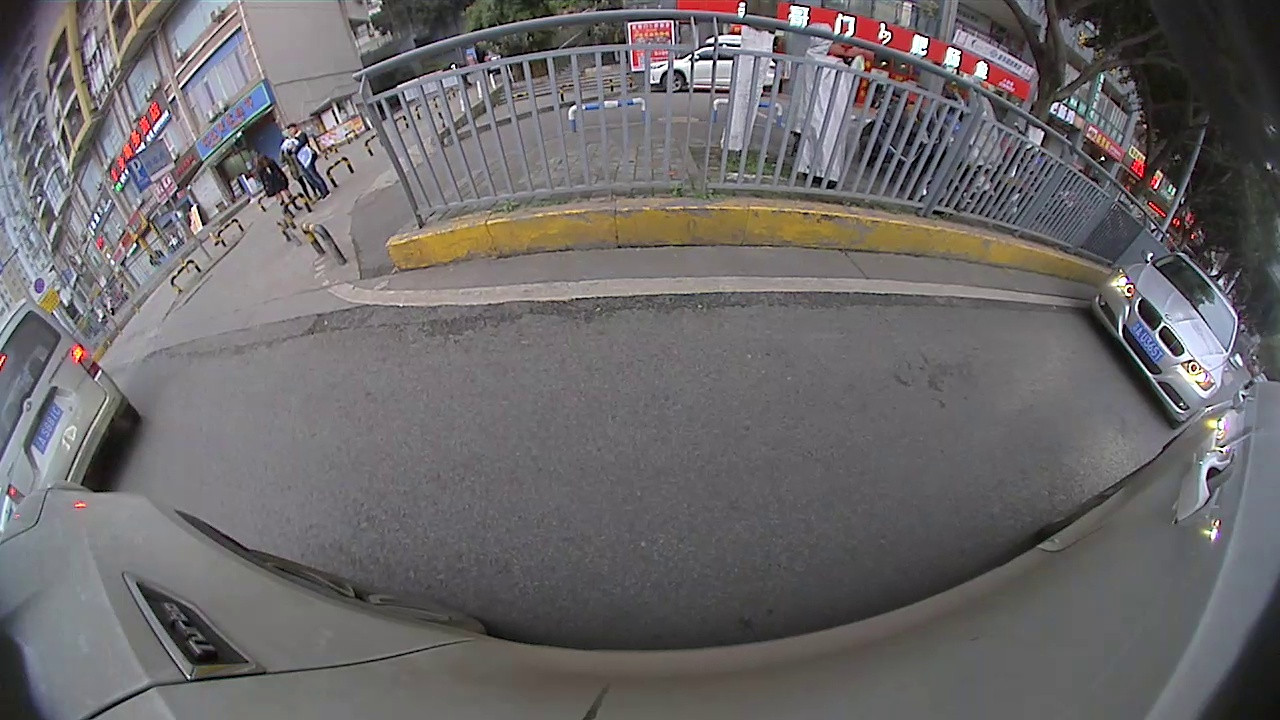car: (0, 292, 149, 507), (1085, 242, 1245, 433), (641, 30, 786, 99)
front: (663, 70, 689, 93)
person: (281, 120, 313, 184), (253, 152, 281, 192)
rider: (856, 79, 971, 217)
